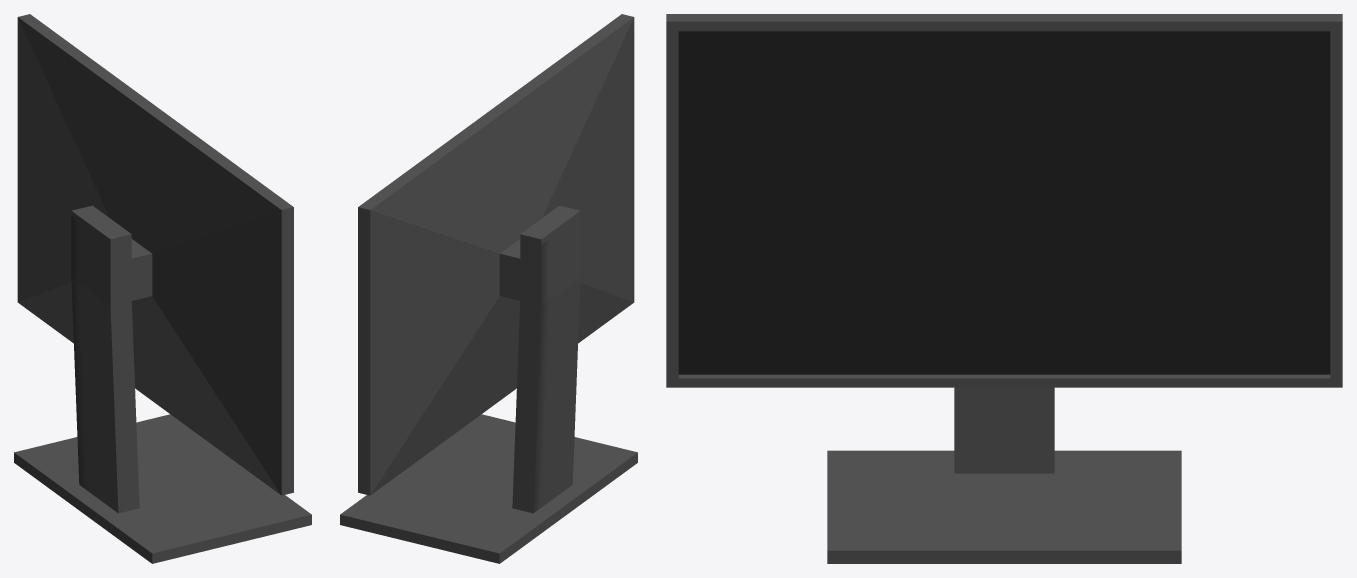
Rendered from monitor.gltf.
3 views of the same model, side by side, from view 1: azimuth 30°, elevation 25°; view 2: azimuth 150°, elevation 25°; view 3: azimuth 270°, elevation 25° (orthographic). The views are drawn at different scales.
Visible parts, largest first — view 1: Monitor.002; view 2: Monitor.002; view 3: Monitor.002.
Part boxes in pixels (left/top/right/bottom): Monitor.002: left=14, top=14, right=311, bottom=563; Monitor.002: left=340, top=14, right=637, bottom=563; Monitor.002: left=666, top=14, right=1342, bottom=563.
Size of the model in its own units: 0.5 by 1.15 by 1.43.
1 material, 1 textured.
